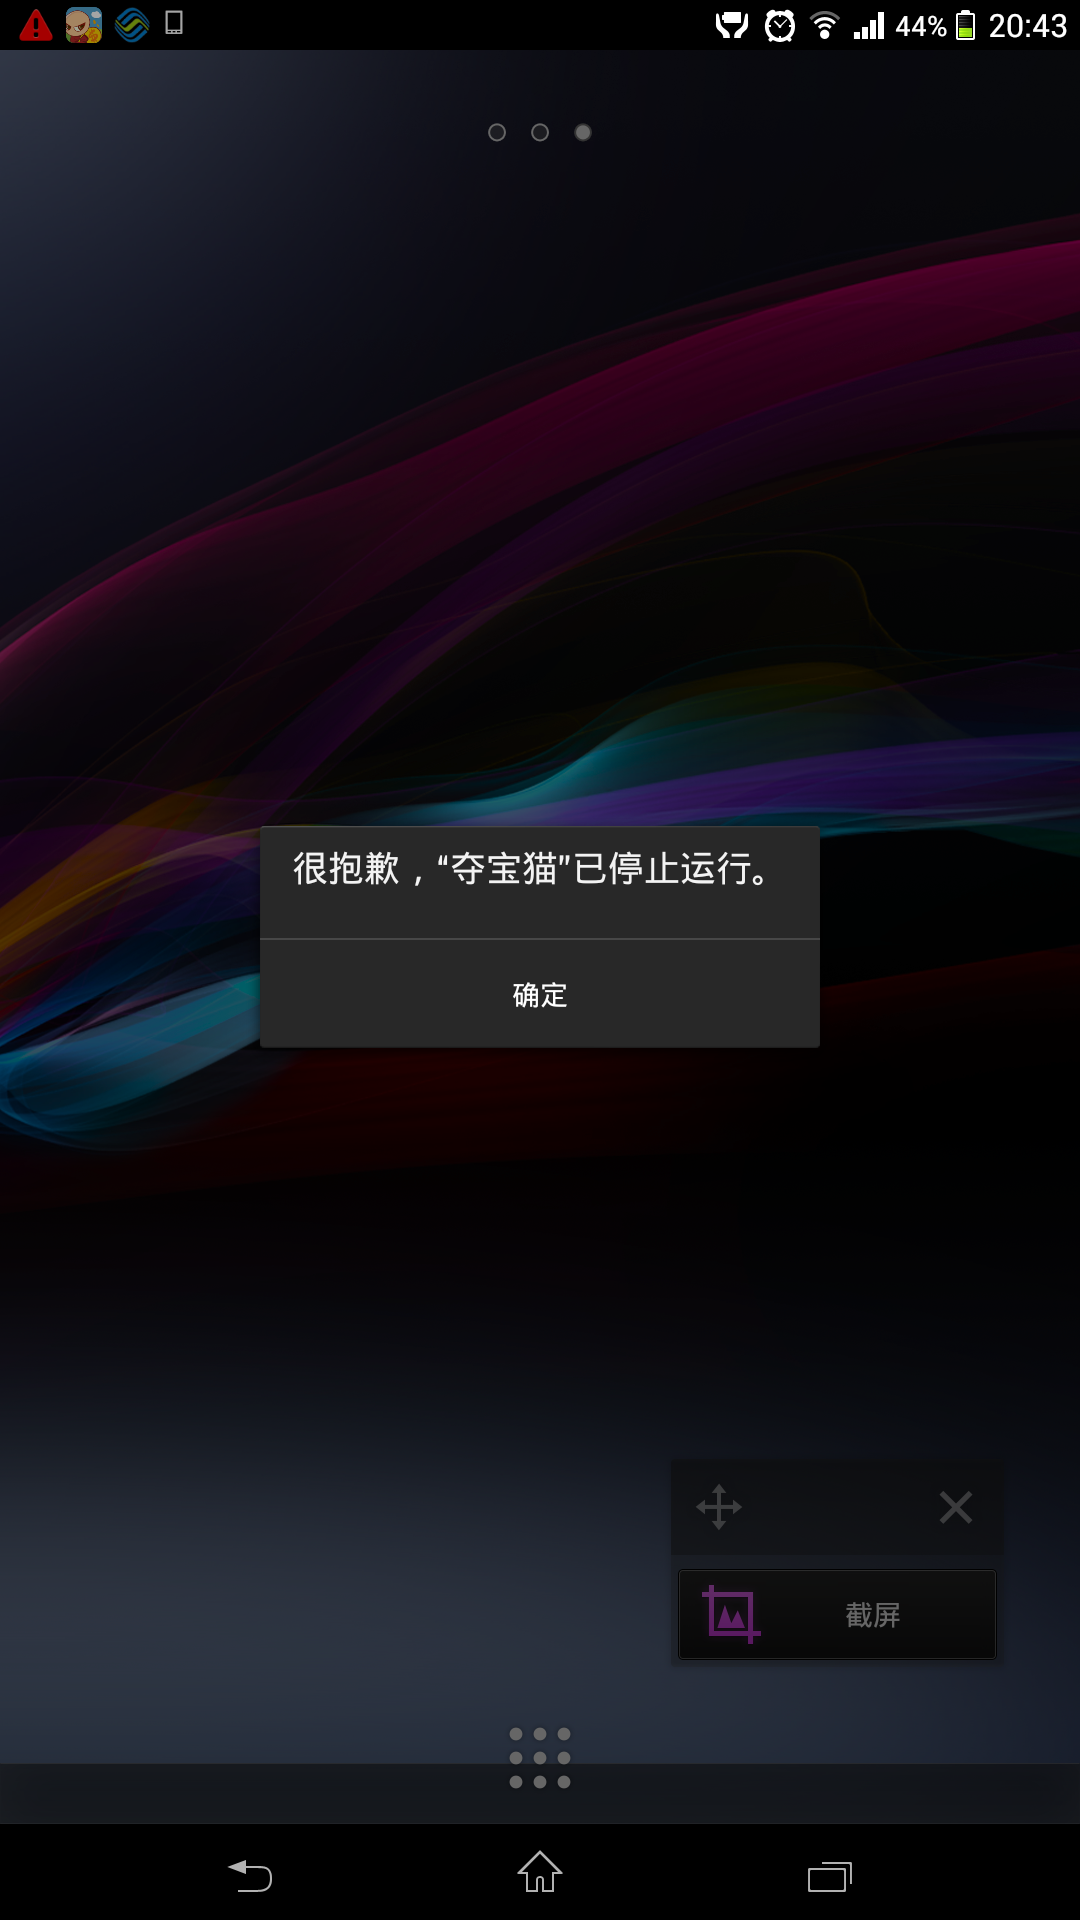alert: (252, 818, 835, 1054)
imgbutton: (492, 1716, 588, 1803)
nav: (22, 1815, 1013, 1916)
radiobutton: (452, 109, 659, 166)
